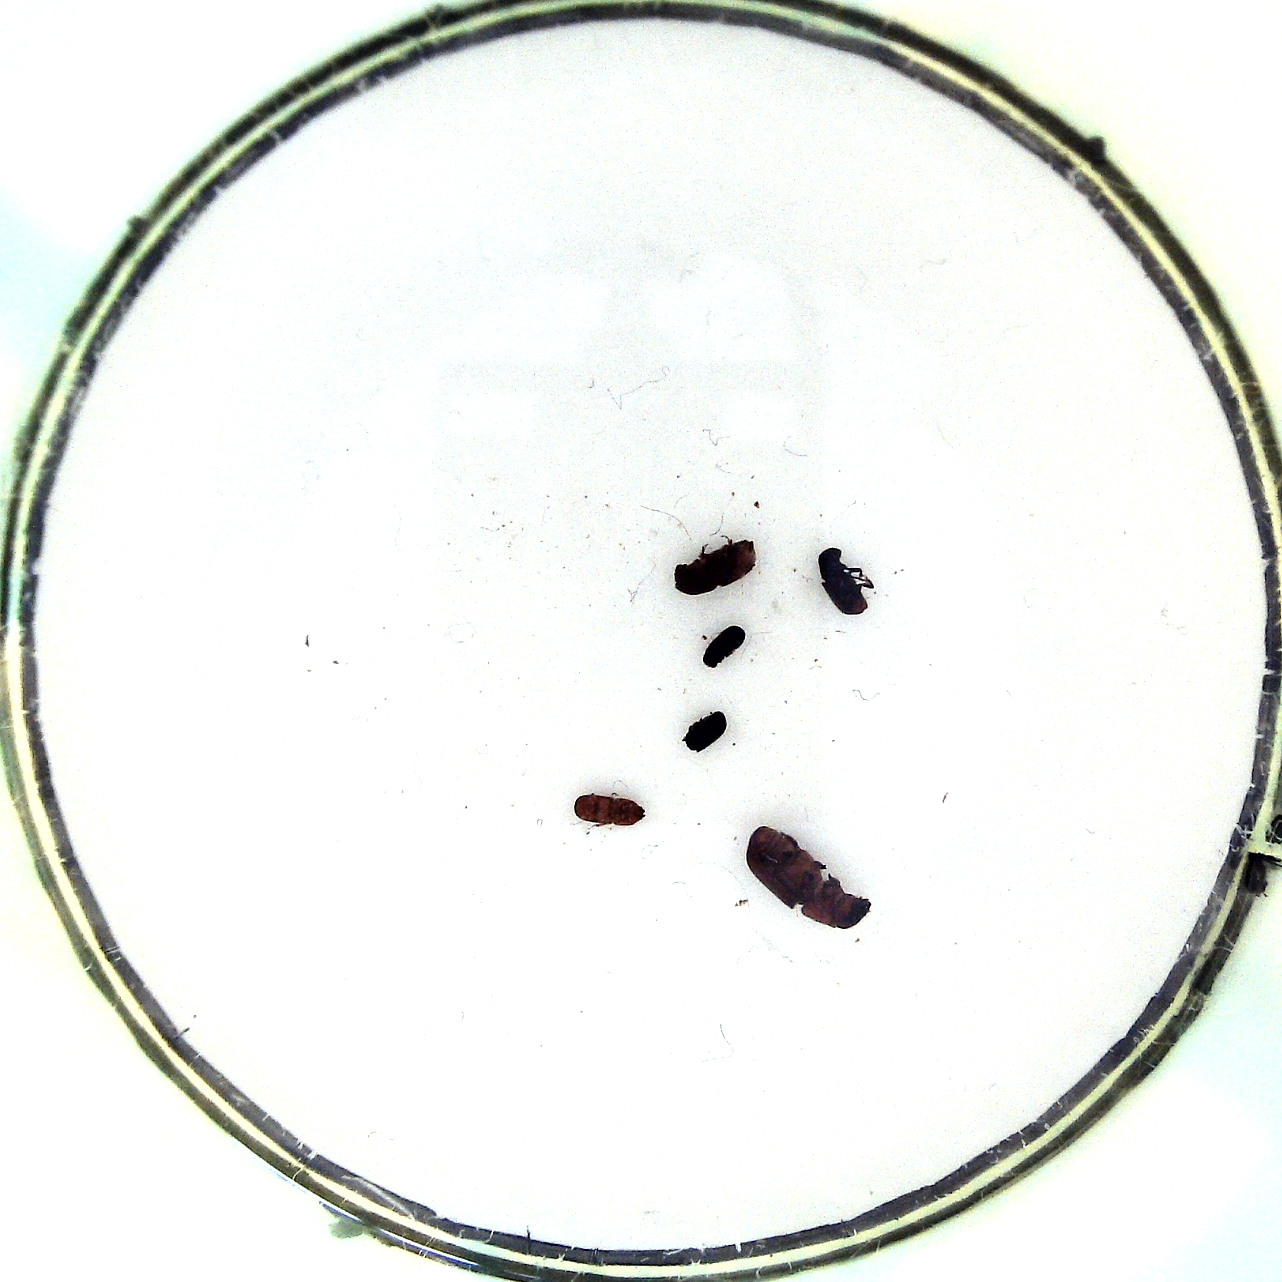Leconte: (745, 819, 877, 930)
Linnaeus: (667, 527, 760, 606)
acuminatus: (571, 781, 647, 832)
armandi: (814, 544, 877, 619)
coleoptera: (675, 704, 733, 760), (700, 622, 753, 679)
